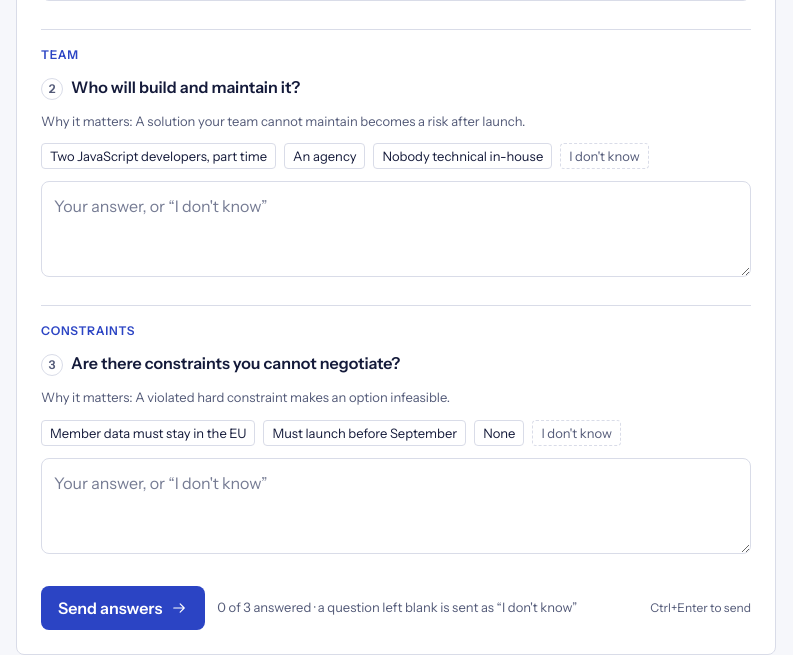
Test: the interview's questions › treat the examples of a question that does not say whether they combine as one choice
The image size is (793, 655).
(page scrolled)
Click the button "Member data must stay in the EU" at coordinates (148, 432), box [41,420,255,446]
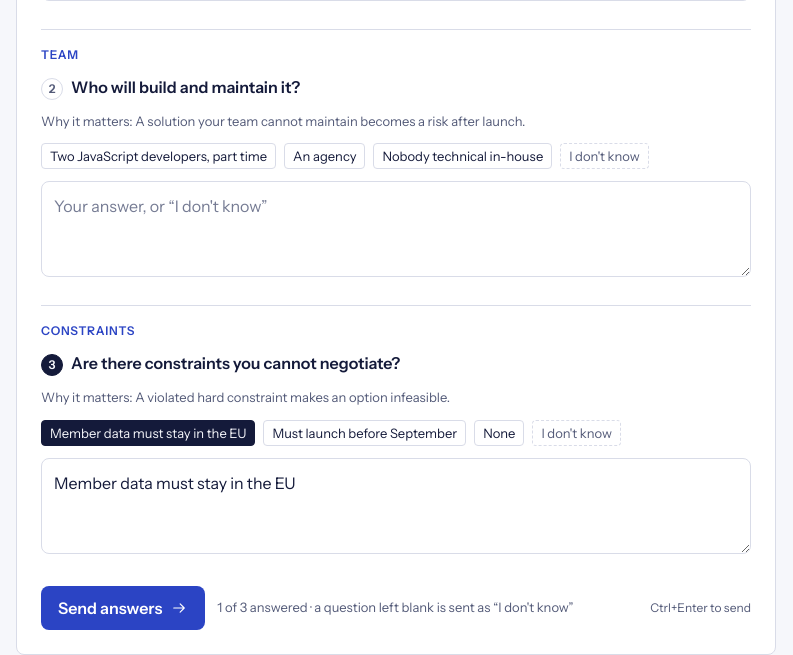
Click the button "None" at coordinates (499, 432), box [474,420,524,446]
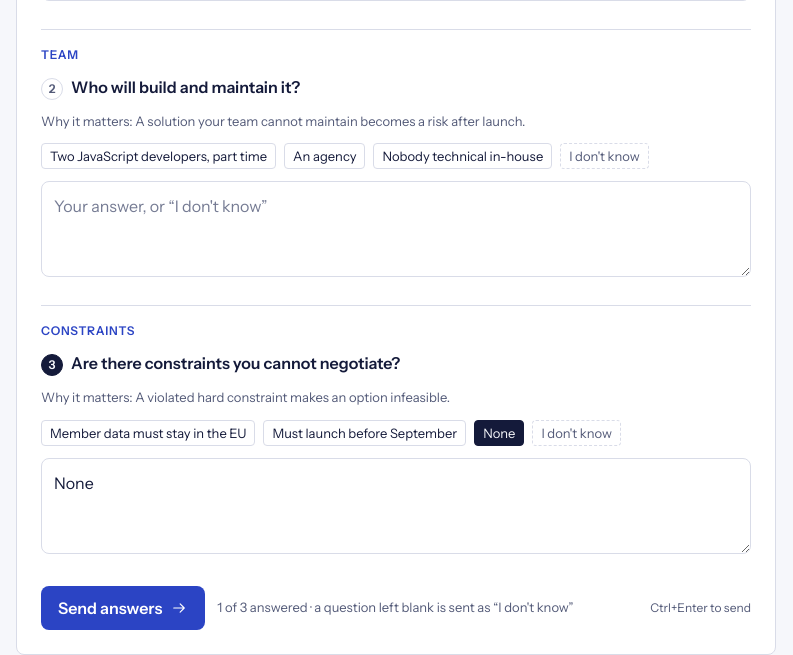
Result: the text box labelled "Are there constraints you cannot negotiate?" holds "None" at [41,458,751,554]
